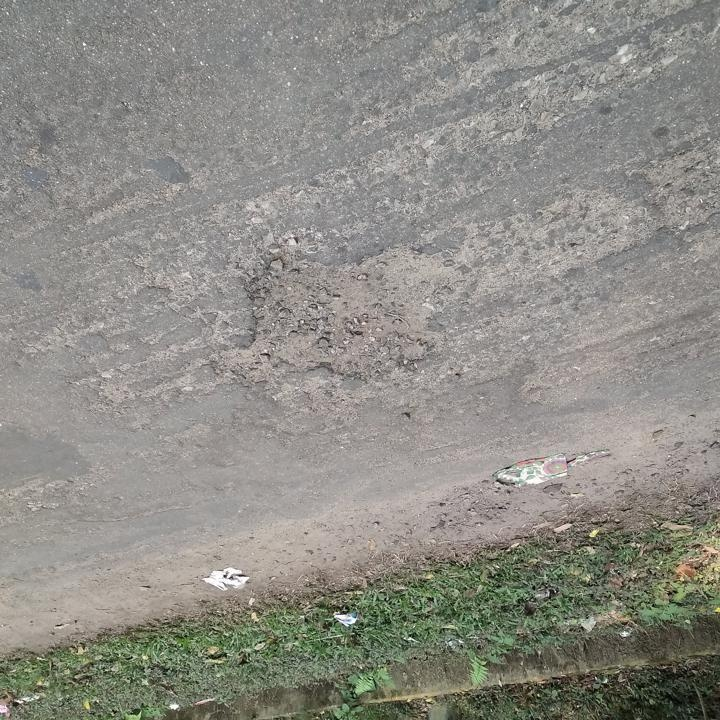pothole: (208, 244, 456, 388)
